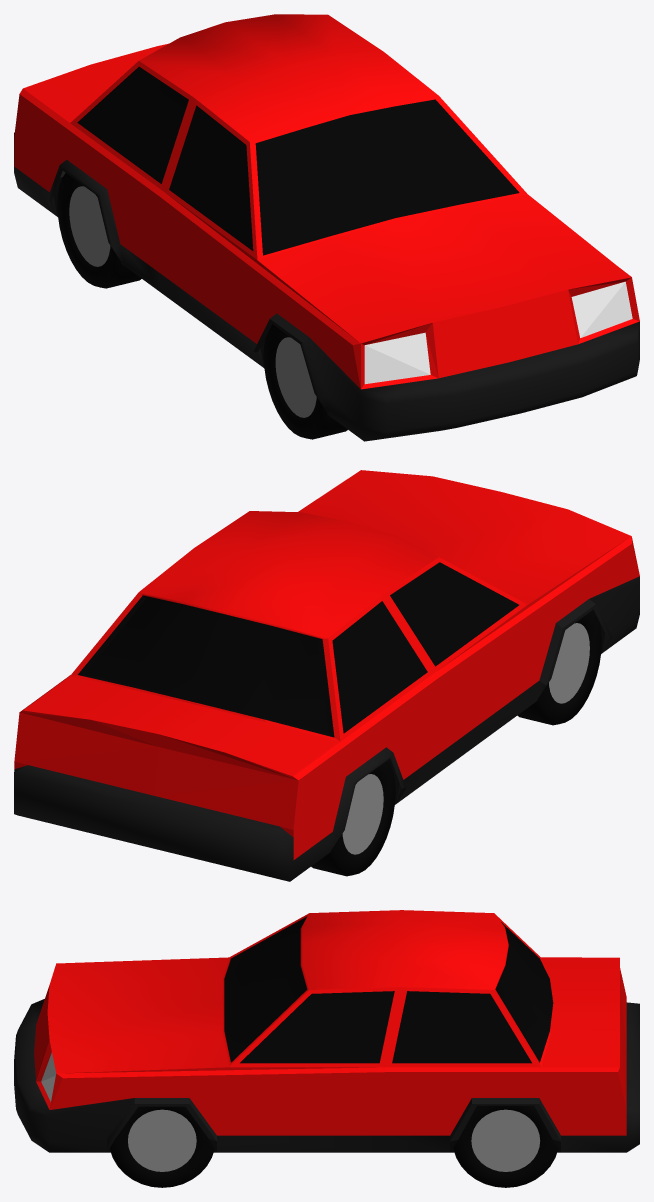
Rendered from car_triang.obj.
3 renders of one model, top to bottom at view 1: azimuth 30°, elevation 25°; view 2: azimuth 150°, elevation 25°; view 3: azimuth 270°, elevation 25°, orthographic. The views are drawn at different scales.
Parts seen in each view (by area): view 1: Car; view 2: Car; view 3: Car.
Part boxes in pixels (x1,y1,x2,y2): Car: (14,14,639,441); Car: (14,470,639,881); Car: (14,910,639,1187).
Size of the model in its own units: 2.1 by 1.59 by 4.66.
